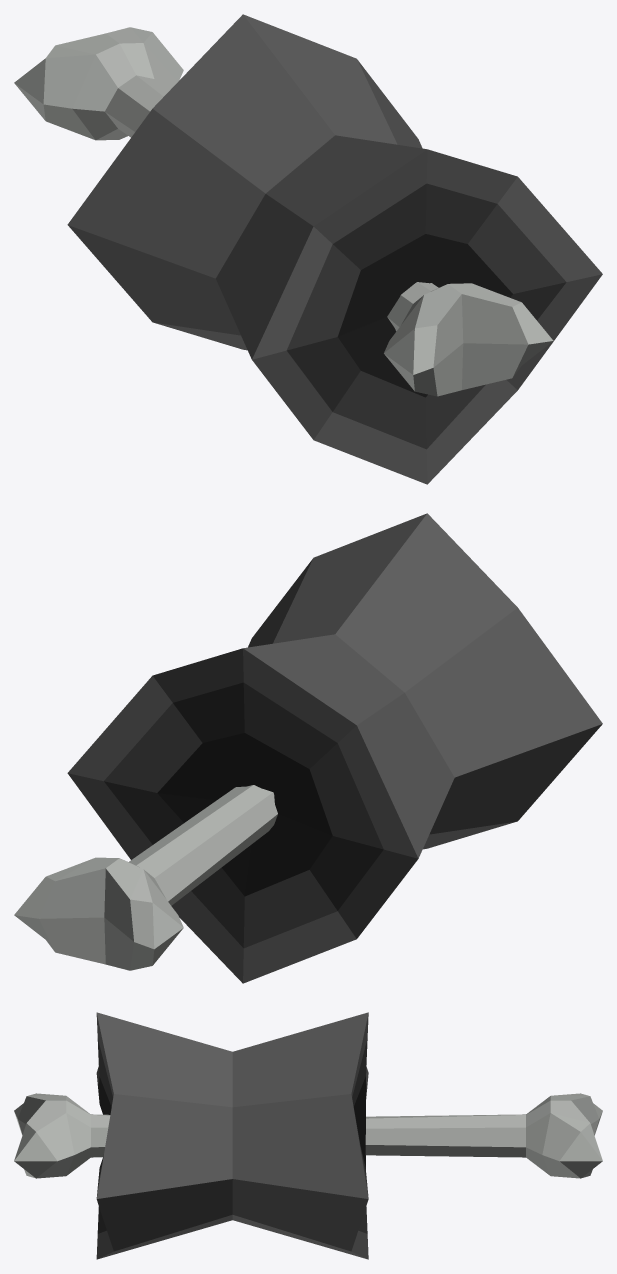
Rendered from Burnt Mystery Meat.fbx.
3 views of the same model, one above another, from view 1: azimuth 30°, elevation 25°; view 2: azimuth 150°, elevation 25°; view 3: azimuth 270°, elevation 25° (orthographic). The views are drawn at different scales.
Parts seen in each view (by area): view 1: Burnt Mystery Meat; view 2: Burnt Mystery Meat; view 3: Burnt Mystery Meat.
Boxes of the visible parts, bbox=[...] form: Burnt Mystery Meat: bbox=[14, 14, 602, 484]; Burnt Mystery Meat: bbox=[14, 513, 602, 983]; Burnt Mystery Meat: bbox=[14, 1012, 602, 1259].
Bounding box in the file's own units: 14.11 × 12.88 × 27.79.
